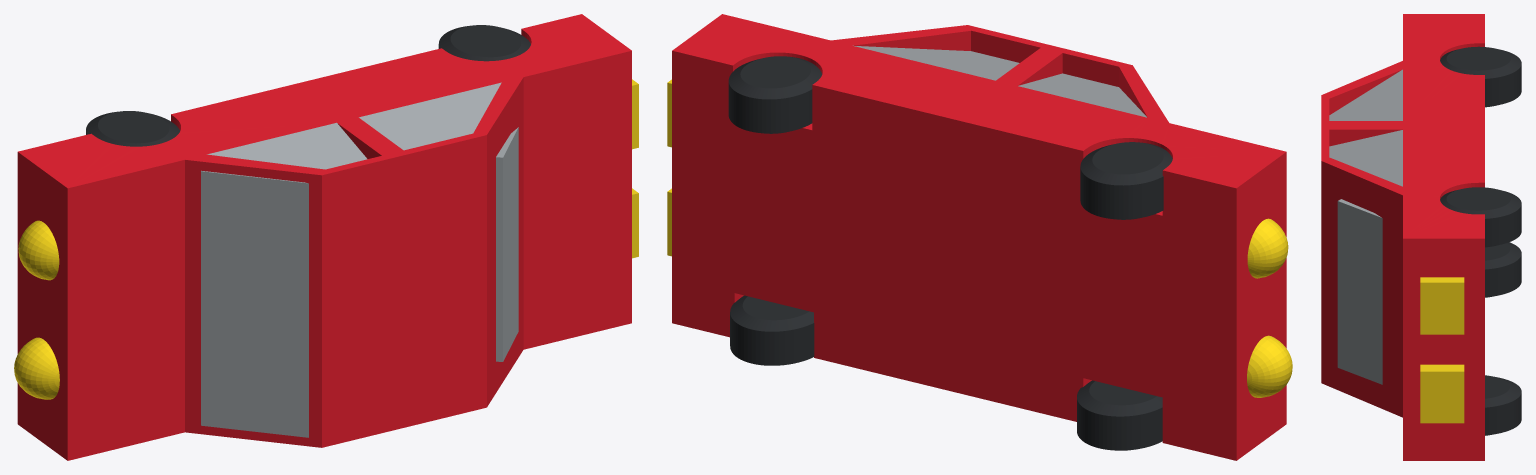
Rendered from tinker.obj.
3 views of the same model, side by side, from view 1: azimuth 30°, elevation 25°; view 2: azimuth 150°, elevation 25°; view 3: azimuth 270°, elevation 25° (orthographic). The views are drawn at different scales.
Visible parts, largest first — view 1: group_0_15277357, group_0_10988977, group_0_2829873, group_0_16768282; view 2: group_0_15277357, group_0_2829873, group_0_16768282, group_0_10988977; view 3: group_0_15277357, group_0_10988977, group_0_2829873, group_0_16768282.
Part boxes in pixels (<box>): group_0_15277357: <box>17,14,631,460</box>; group_0_10988977: <box>201,82,518,437</box>; group_0_2829873: <box>86,25,530,146</box>; group_0_16768282: <box>14,79,638,399</box>; group_0_15277357: <box>672,14,1286,460</box>; group_0_2829873: <box>728,56,1172,450</box>; group_0_16768282: <box>667,79,1292,397</box>; group_0_10988977: <box>853,45,1146,117</box>; group_0_15277357: <box>1321,14,1484,460</box>; group_0_10988977: <box>1329,69,1402,384</box>; group_0_2829873: <box>1440,46,1521,435</box>; group_0_16768282: <box>1420,277,1464,423</box>.
Size of the model in its own units: 140 by 61 by 49.
